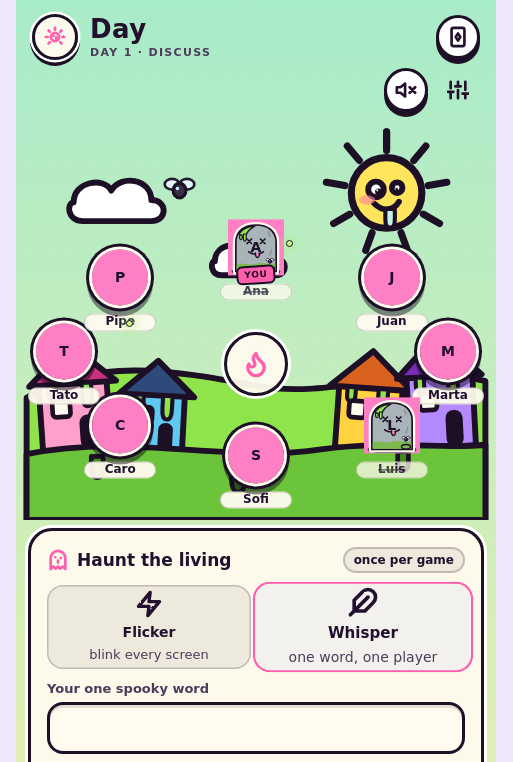
Scenario: GhostDock › shows a rejected haunt: ghost-powers-off
Click the button with class "ghost-choice" showing "Flicker blink every screen". click: (149, 627)
box: [47,585,251,669]
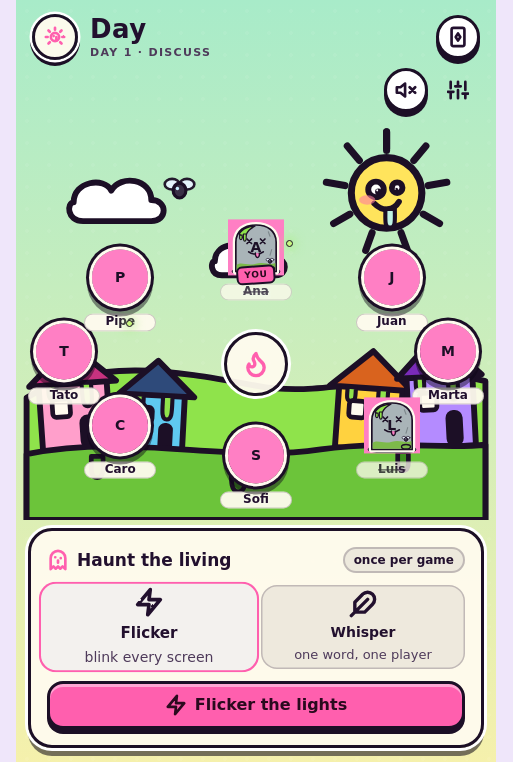
Click the button "Flicker the lights". click: (256, 705)
box: [47,681,465,729]
(page scrolled)
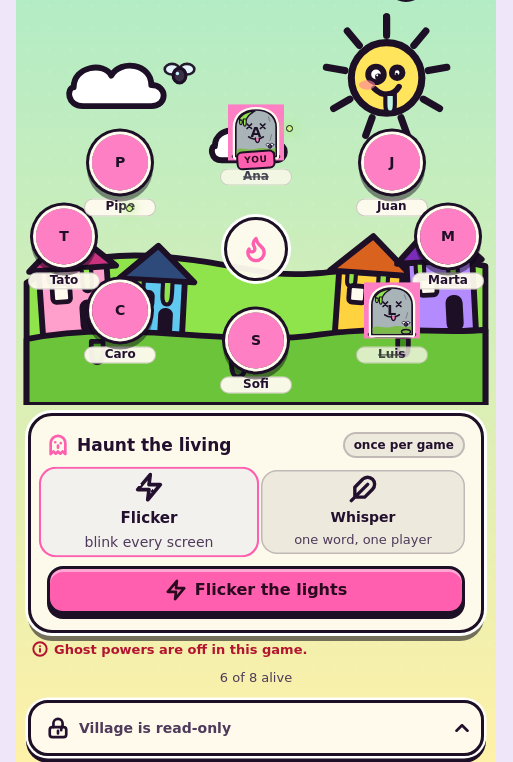
Expected: the message with class "err" reads "Ghost powers are off in this game.", [54,642,307,657]
